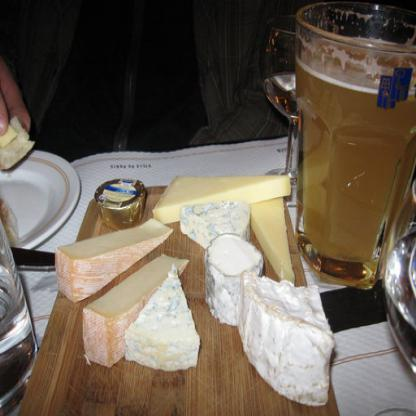parmesan cheese: (80, 257, 182, 365), (52, 216, 171, 306), (156, 176, 290, 223), (250, 192, 296, 286)
